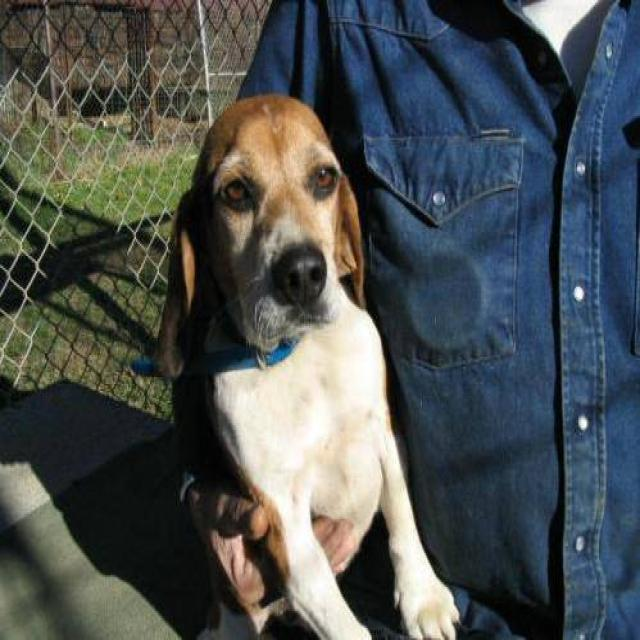dog: (153, 91, 463, 638)
